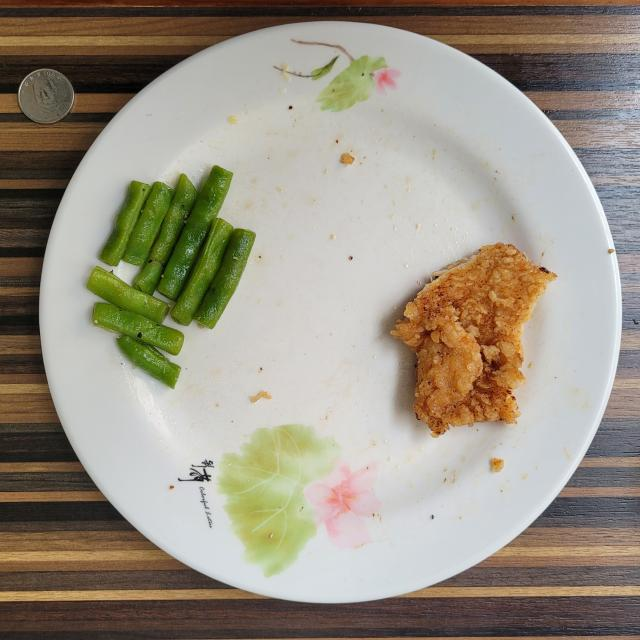coin: (18, 69, 74, 124)
fried chicken cutlet: (392, 242, 556, 436)
